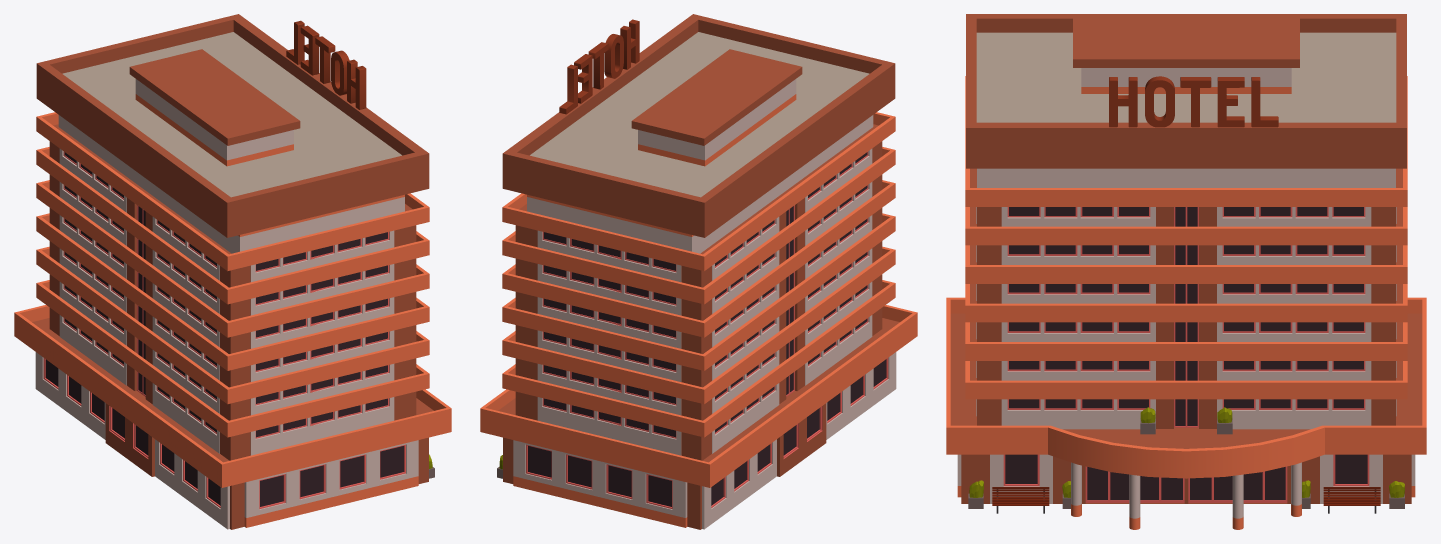
The model's file is hotel_w.glb.
The picture shows the model from 3 angles, left to right: view 1: azimuth 30°, elevation 25°; view 2: azimuth 150°, elevation 25°; view 3: azimuth 270°, elevation 25°; orthographic projection. The views are drawn at different scales.
Parts seen in each view (by area): view 1: PublicBuilding_2; view 2: PublicBuilding_2; view 3: PublicBuilding_2.
Boxes of the visible parts, x1,y1,x2,y2 form: PublicBuilding_2: (14,14,451,529); PublicBuilding_2: (480,14,917,529); PublicBuilding_2: (946,14,1426,529).
Bounding box in the file's own units: 7.51 × 9.67 × 9.92.
1 material, 1 textured.
